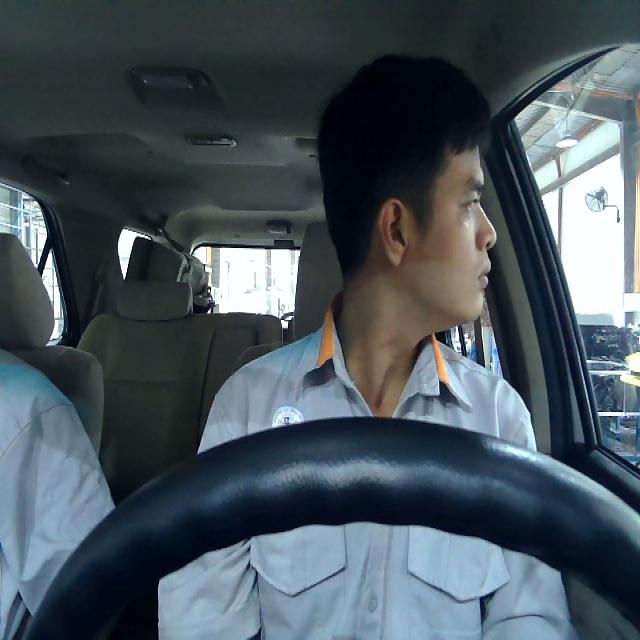seeing_right: (374, 135, 498, 324)
